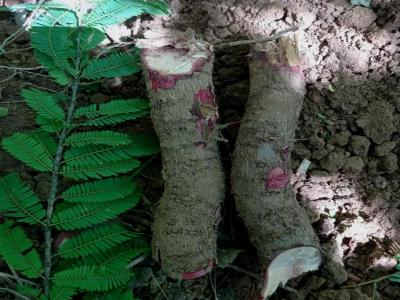Root: (228, 24, 322, 300), (135, 28, 233, 280), (178, 128, 181, 134)
